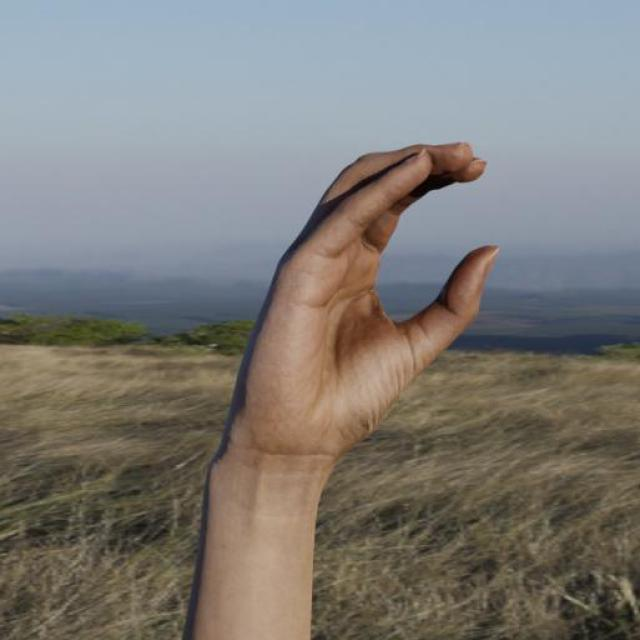C: (223, 130, 503, 479)
